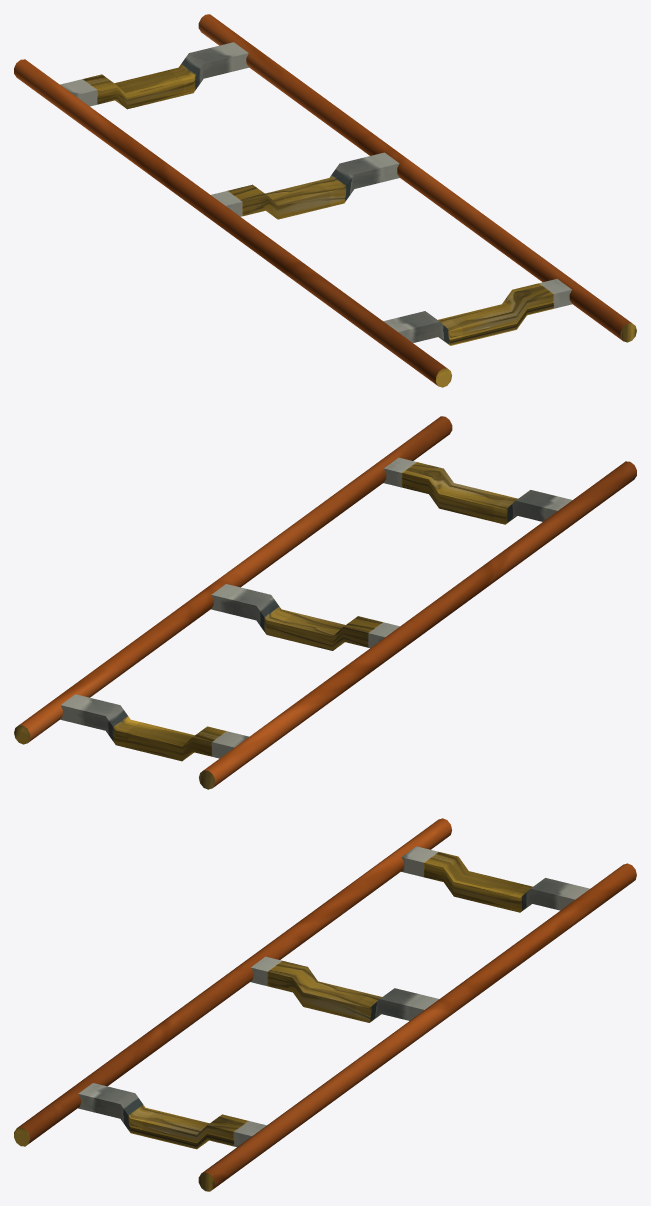
Rendered from Gantry_crane_railing.FBX.
The picture shows the model from 3 angles, top to bottom: view 1: azimuth 30°, elevation 25°; view 2: azimuth 150°, elevation 25°; view 3: azimuth 330°, elevation 25°; orthographic projection.
Parts seen in each view (by area): view 1: Box033; view 2: Box033; view 3: Box033.
Boxes of the visible parts, left/top/right/bottom form: Box033: left=14, top=14, right=636, bottom=387; Box033: left=14, top=416, right=636, bottom=789; Box033: left=14, top=818, right=636, bottom=1191.
Bounding box in the file's own units: 0.6919 × 0.0957 × 2.52.
